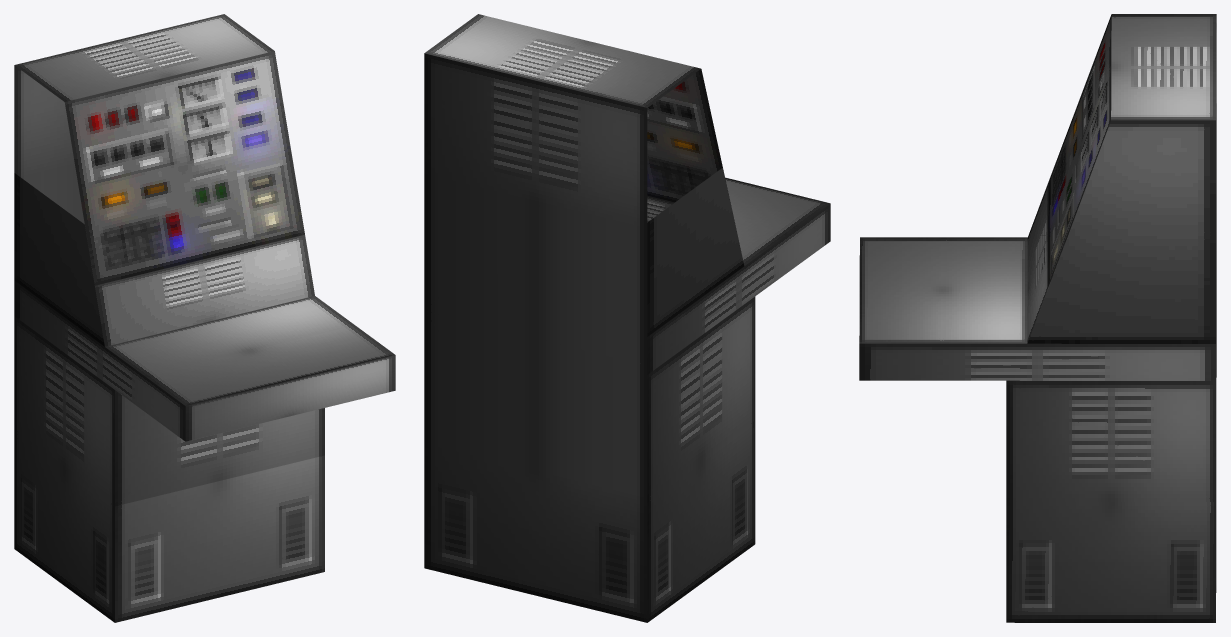
Rendered from primary_206.glb.
The picture shows the model from 3 angles, left to right: view 1: azimuth 30°, elevation 25°; view 2: azimuth 150°, elevation 25°; view 3: azimuth 270°, elevation 25°; orthographic projection. The views are drawn at different scales.
Visible parts, largest first — view 1: Object; view 2: Object; view 3: Object.
Part boxes in pixels (x1,y1,x2,y2): Object: [14, 14, 395, 622]; Object: [424, 14, 830, 622]; Object: [859, 14, 1216, 622].
Bounding box in the file's own units: 0.8103 × 1.78 × 1.15.
Materials: 21 (21 with a texture image).
